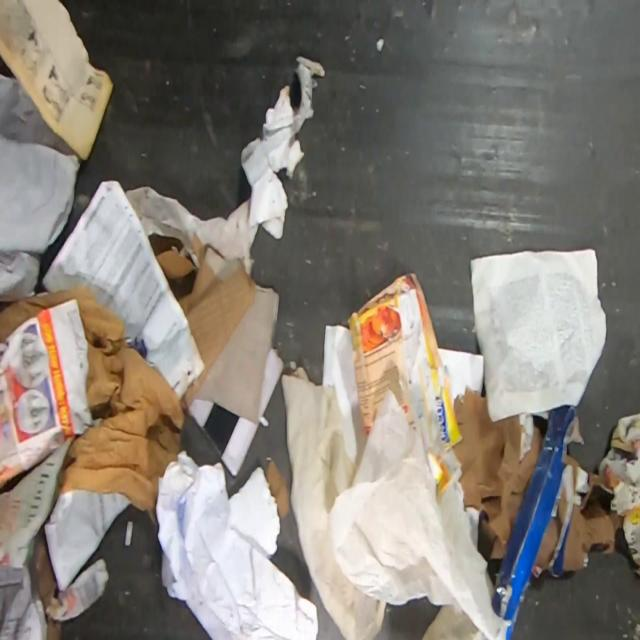cardboard: (346, 272, 464, 496), (490, 404, 576, 640), (155, 233, 256, 411), (601, 409, 640, 573)
